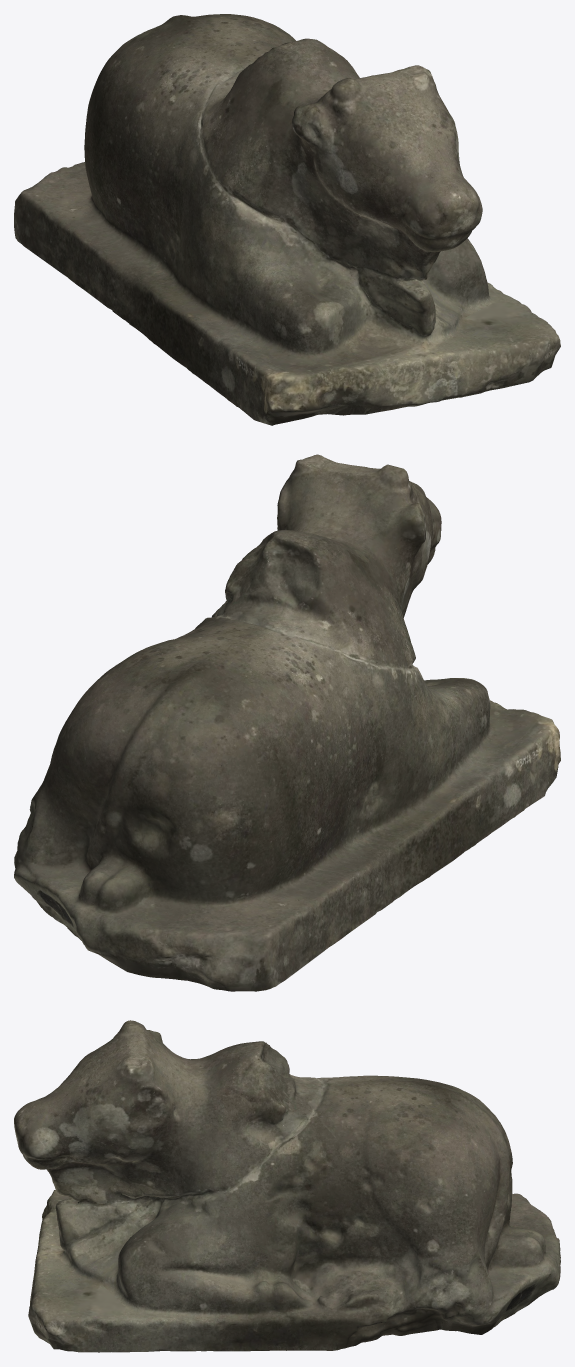
File: MysonMuseum_BothanNandin_final.glb
3 renders of one model, top to bottom at view 1: azimuth 30°, elevation 25°; view 2: azimuth 150°, elevation 25°; view 3: azimuth 270°, elevation 25°, orthographic. The views are drawn at different scales.
Size of the model in its own units: 0.4486 by 0.4401 by 0.8426.
1 material, 1 textured.
